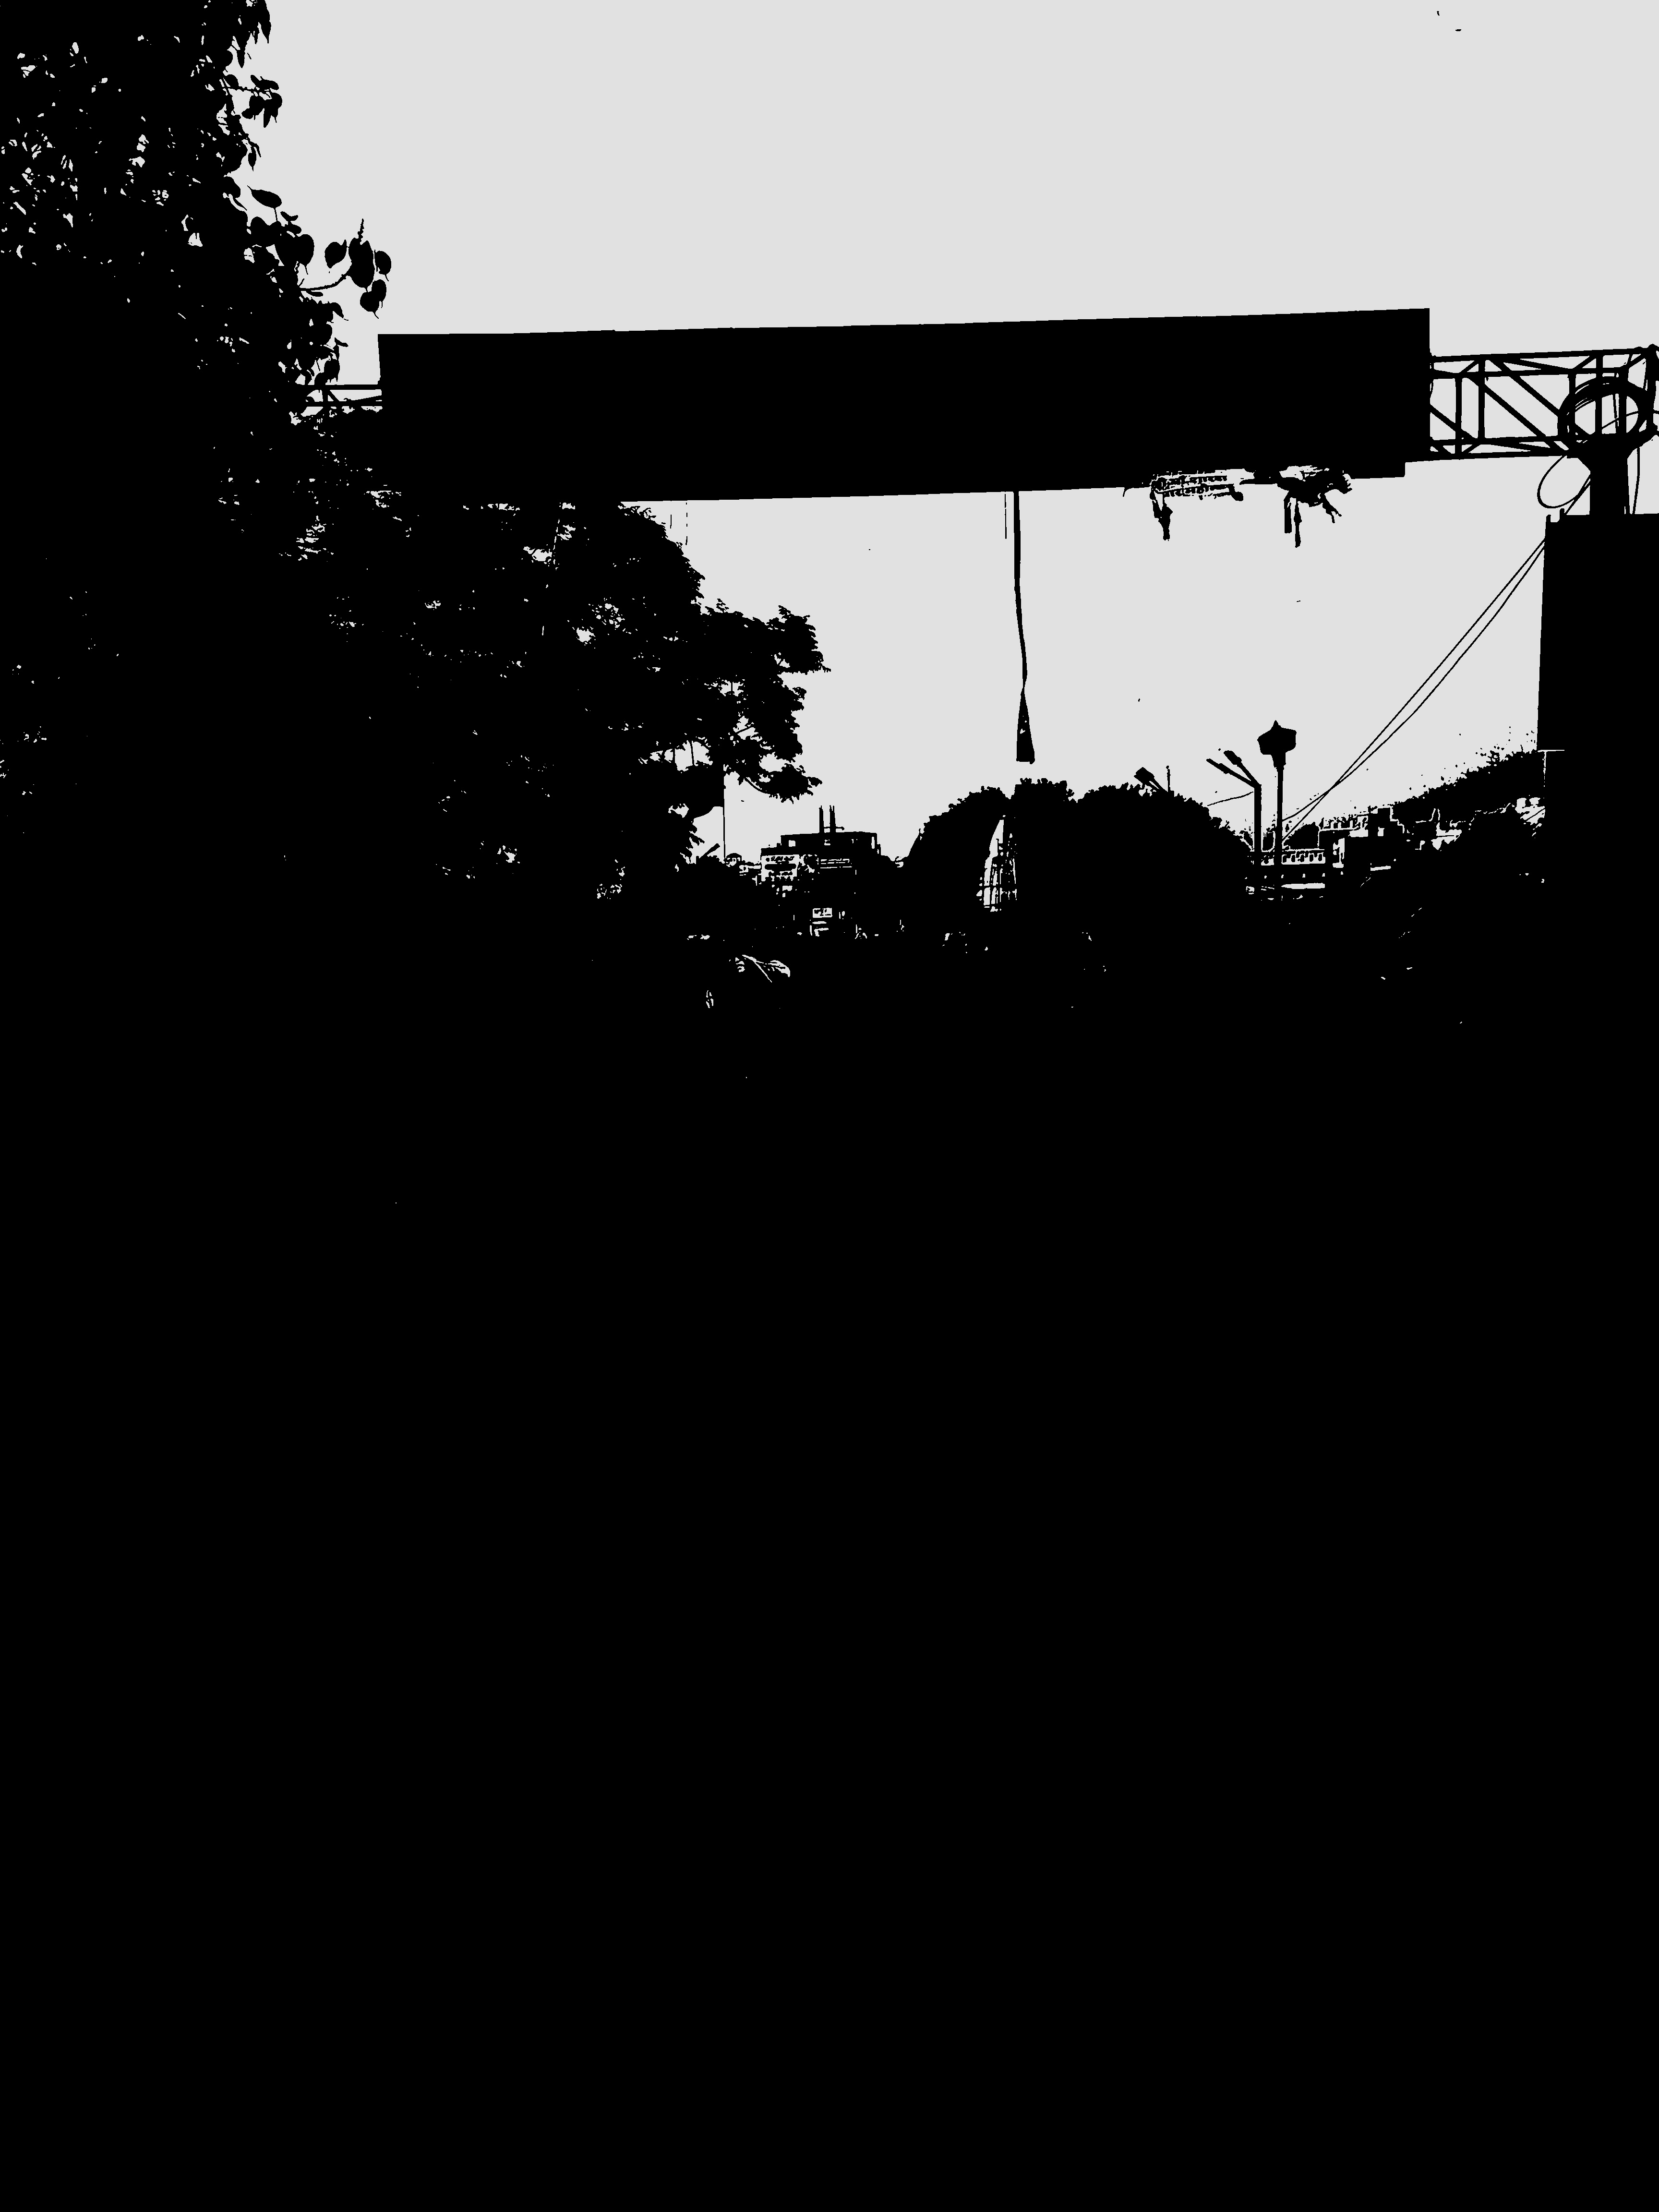text: (380, 320, 1432, 484), (138, 559, 277, 798), (159, 805, 295, 1028), (1554, 509, 1659, 745), (1556, 749, 1659, 974)
